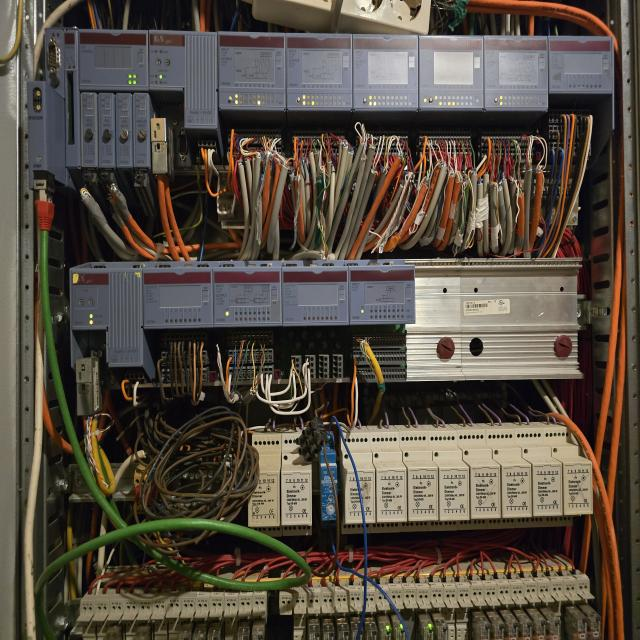Dimmer: (544, 427, 593, 527), (515, 429, 564, 528), (486, 429, 532, 530), (457, 430, 501, 530), (428, 431, 470, 531), (398, 432, 439, 532), (370, 432, 407, 533), (340, 433, 375, 534), (249, 432, 281, 538), (281, 432, 312, 538), (318, 431, 339, 524)
Relais: (474, 613, 490, 640), (574, 611, 588, 640), (518, 612, 532, 640), (532, 612, 546, 640), (546, 612, 560, 640), (588, 612, 602, 640), (491, 613, 505, 640), (505, 612, 517, 640), (435, 619, 448, 640), (421, 620, 434, 640), (393, 619, 405, 640), (322, 621, 335, 640), (336, 621, 349, 640), (308, 621, 320, 640), (365, 621, 377, 640), (379, 621, 391, 640), (351, 622, 362, 640), (108, 630, 121, 640), (135, 632, 149, 640), (207, 632, 221, 640), (192, 632, 205, 640), (252, 632, 264, 640), (178, 633, 191, 640), (237, 633, 249, 640)
SPS-System -Steuerungskomponente-: (218, 30, 286, 108), (286, 33, 352, 112), (352, 33, 418, 110), (419, 35, 484, 111), (484, 35, 548, 110), (69, 266, 141, 331), (147, 26, 215, 92), (75, 28, 147, 87), (281, 266, 349, 326), (213, 266, 282, 325), (143, 267, 213, 325), (547, 36, 612, 94), (349, 267, 416, 323)
